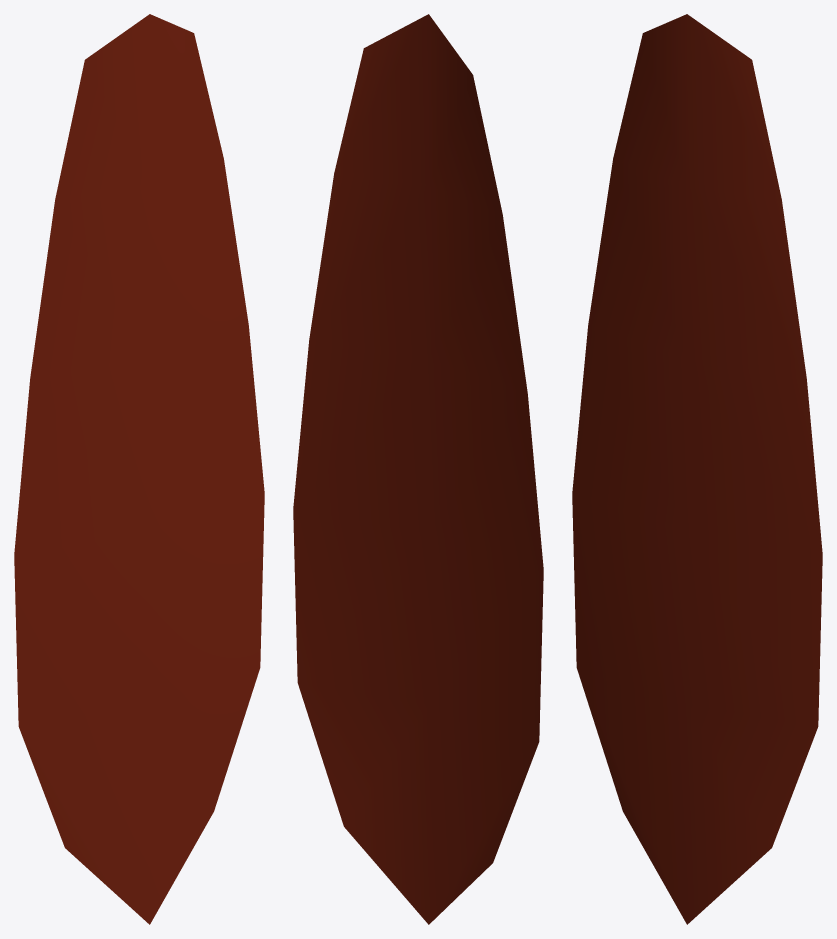
File: pheasant_feather_flight_tertiary_005.obj
The picture shows the model from 3 angles, left to right: view 1: azimuth 30°, elevation 25°; view 2: azimuth 150°, elevation 25°; view 3: azimuth 330°, elevation 25°; orthographic projection.
Visible parts, largest first — view 1: feather_flight_tertiary_005; view 2: feather_flight_tertiary_005; view 3: feather_flight_tertiary_005.
Part boxes in pixels (x1,y1,x2,y2): feather_flight_tertiary_005: (14, 14, 264, 924); feather_flight_tertiary_005: (293, 14, 543, 924); feather_flight_tertiary_005: (572, 14, 822, 924).
Bounding box in the file's own units: 0.00887 × 0.0308 × 0.000634.
